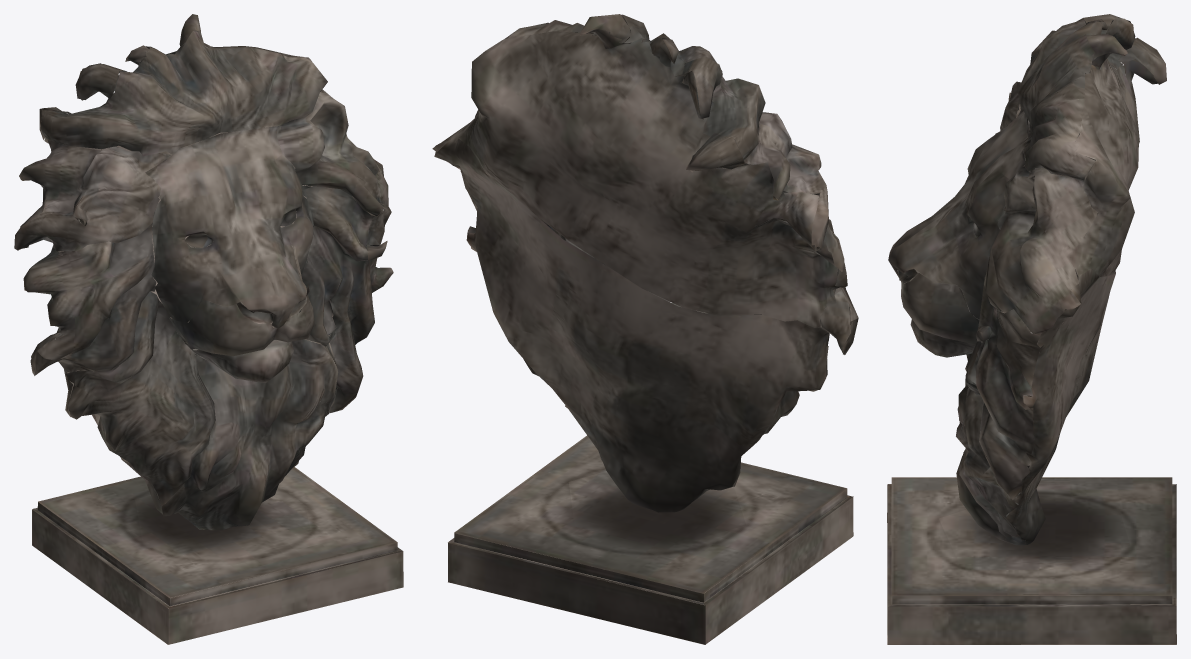
Rendered from lion_head.glb.
The picture shows the model from 3 angles, left to right: view 1: azimuth 30°, elevation 25°; view 2: azimuth 150°, elevation 25°; view 3: azimuth 270°, elevation 25°; orthographic projection. The views are drawn at different scales.
Parts seen in each view (by area): view 1: lion_head; view 2: lion_head; view 3: lion_head.
Part boxes in pixels (left/top/right/bottom): lion_head: left=14, top=14, right=403, bottom=644; lion_head: left=432, top=14, right=858, bottom=644; lion_head: left=887, top=14, right=1176, bottom=644.
Size of the model in its own units: 0.3205 by 0.4363 by 0.2068.
1 material, 1 textured.
